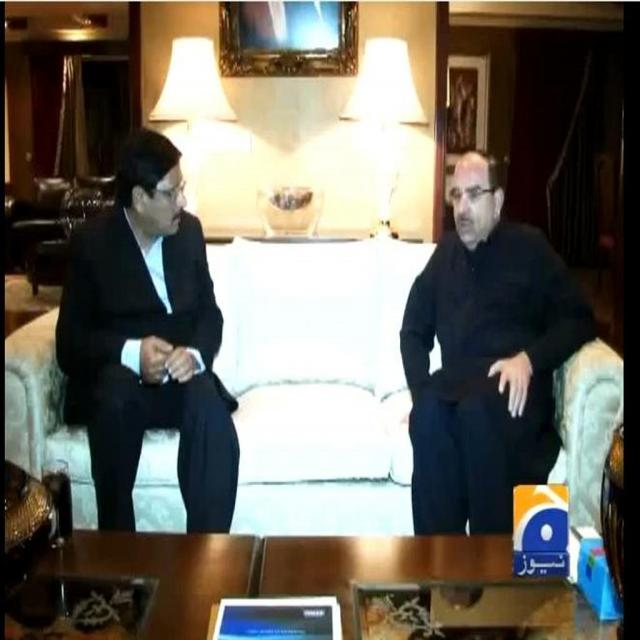nomask: (142, 146, 186, 242), (454, 154, 491, 248)
